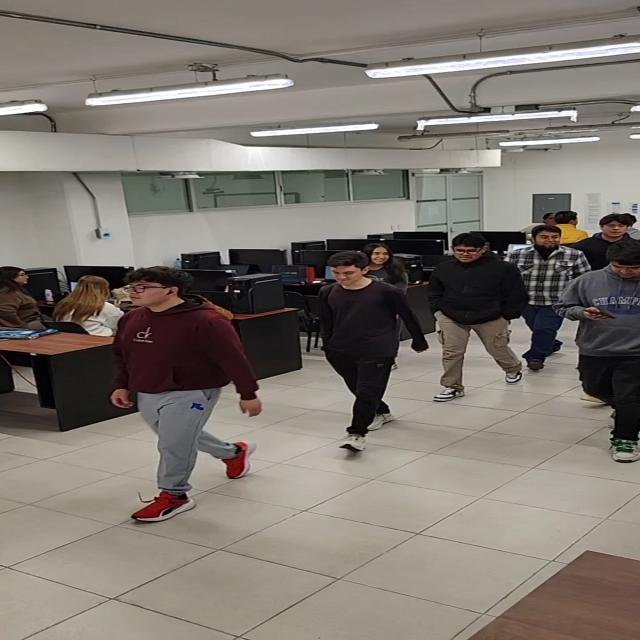Persona: (107, 264, 265, 534), (312, 247, 406, 455), (575, 243, 640, 507), (425, 230, 516, 401), (516, 224, 572, 383), (369, 236, 404, 296)
